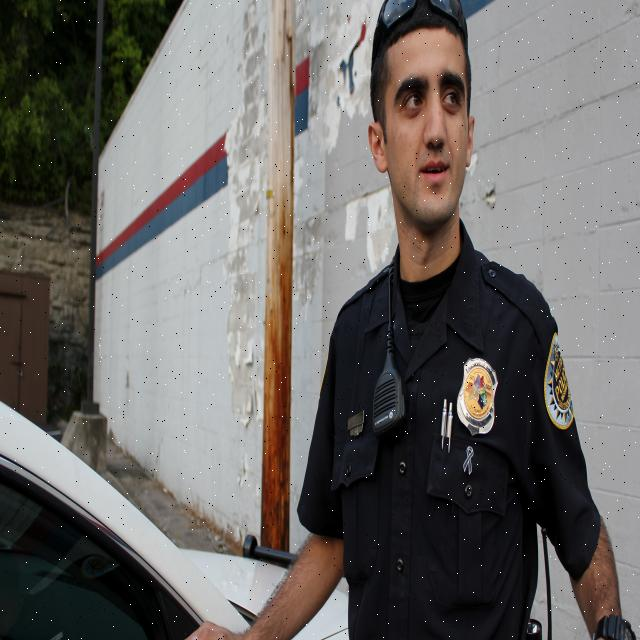police: (255, 0, 590, 640)
